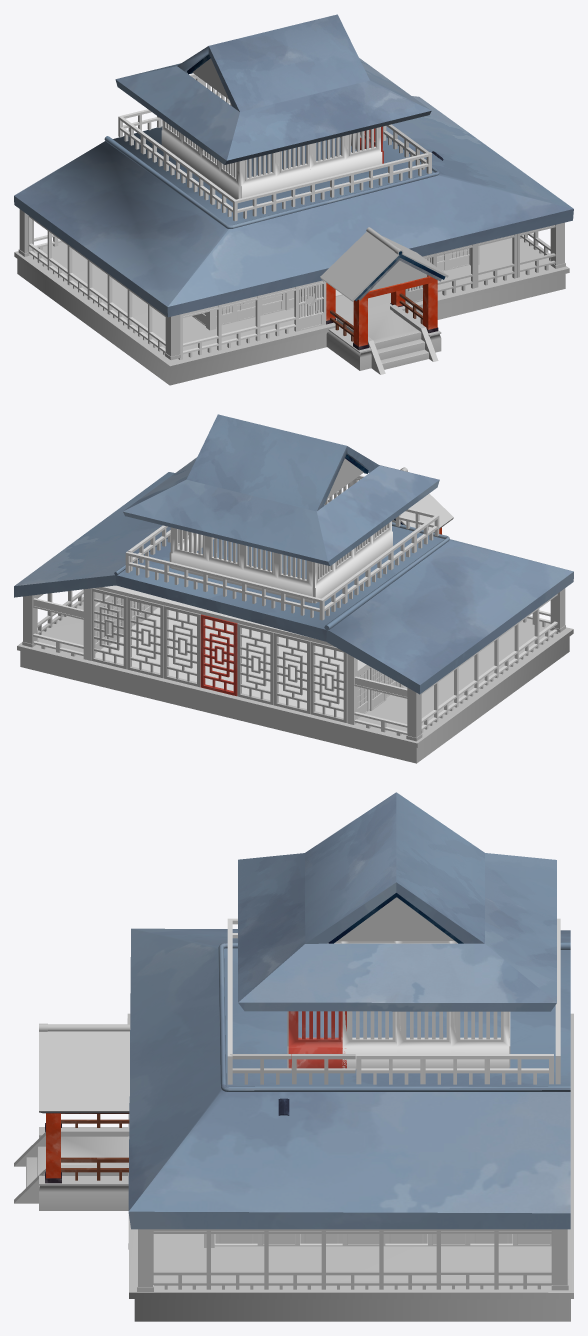
Rendered from house.FBX.
3 renders of one model, top to bottom at view 1: azimuth 30°, elevation 25°; view 2: azimuth 150°, elevation 25°; view 3: azimuth 270°, elevation 25°, orthographic. The views are drawn at different scales.
Visible parts, largest first — view 1: Box233, Cylinder002, Box014, Cylinder001, Box351, Box026, Box334, Box328, Box330, Box332, Box018, Box030 (+28 smaller); view 2: Box233, Cylinder002, Box014, Box350, Box346, Box349, window1, Box347, Box344, Box348, Box345, Box231 (+31 smaller); view 3: Box233, Cylinder002, Box014, Cylinder001, Box017, Box337, Box255, Box234, Box253, Box251, Box351, Box227 (+19 smaller).
Boxes of the visible parts, <box> form: Box233: <box>14,96,573,317</box>; Cylinder002: <box>115,14,431,164</box>; Box014: <box>14,238,569,385</box>; Cylinder001: <box>320,227,448,301</box>; Box351: <box>347,310,428,369</box>; Box026: <box>296,280,326,331</box>; Box334: <box>344,127,382,172</box>; Box328: <box>241,152,278,198</box>; Box330: <box>275,143,313,189</box>; Box332: <box>310,135,347,180</box>; Box018: <box>326,326,371,370</box>; Box030: <box>475,234,516,287</box>; Box233: <box>14,472,573,694</box>; Cylinder002: <box>123,414,439,565</box>; Box014: <box>17,601,573,763</box>; Box350: <box>95,607,399,722</box>; Box346: <box>200,614,237,696</box>; Box349: <box>310,641,347,722</box>; window1: <box>91,588,127,669</box>; Box347: <box>237,623,273,705</box>; Box344: <box>127,596,164,678</box>; Box348: <box>274,632,310,713</box>; Box345: <box>164,605,200,687</box>; Box231: <box>93,585,334,646</box>; Box233: <box>128,928,570,1229</box>; Cylinder002: <box>238,792,556,1011</box>; Box014: <box>127,1013,573,1321</box>; Cylinder001: <box>39,1023,129,1112</box>; Box017: <box>39,1175,128,1210</box>; Box337: <box>337,897,454,941</box>; Box255: <box>451,1011,509,1068</box>; Box234: <box>288,1011,346,1068</box>; Box253: <box>397,1011,455,1068</box>; Box251: <box>342,1011,400,1068</box>; Box351: <box>26,1136,129,1187</box>; Box227: <box>494,1229,552,1289</box>.
Size of the model in its own units: 31510 by 17880 by 26355.
